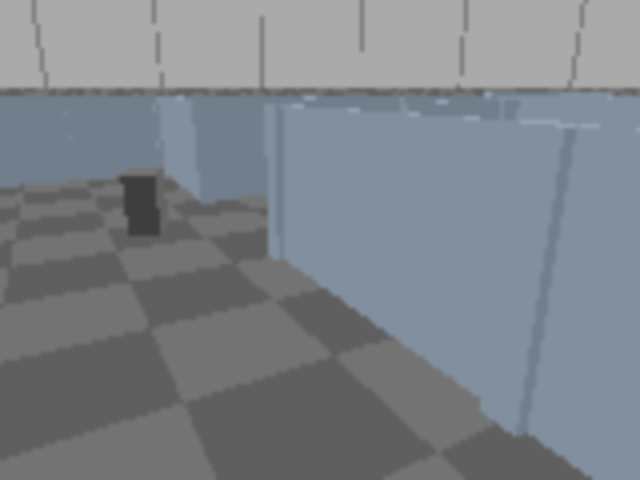obstacle: (121, 169, 168, 235)
